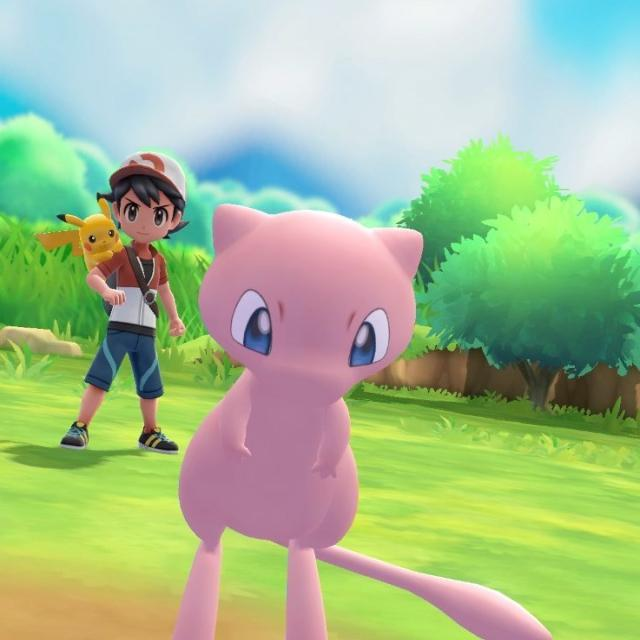Mew: (180, 220, 408, 543)
Pikachu: (57, 194, 123, 278)
